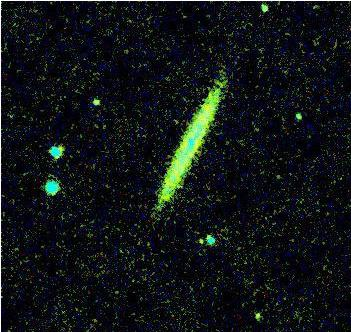star: (80, 87, 110, 117)
